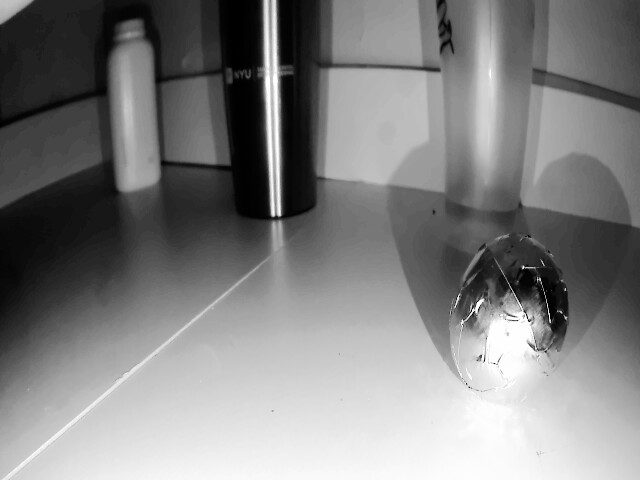black: (447, 233, 591, 411)
